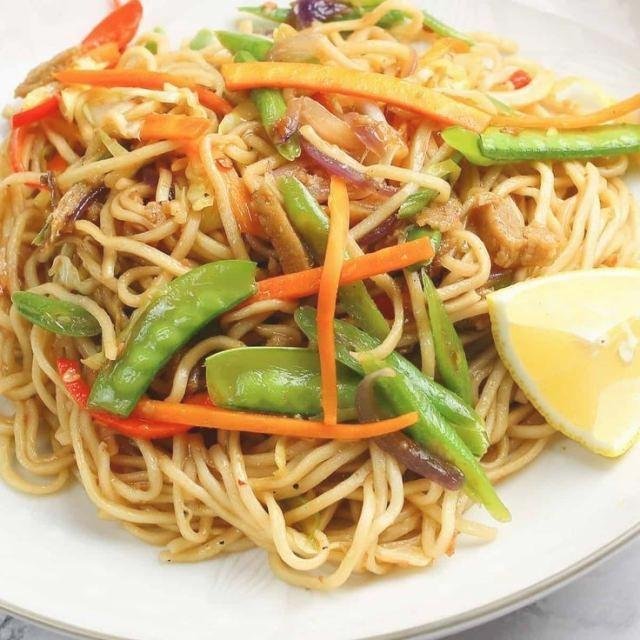pancit bihon: (1, 0, 639, 564)
